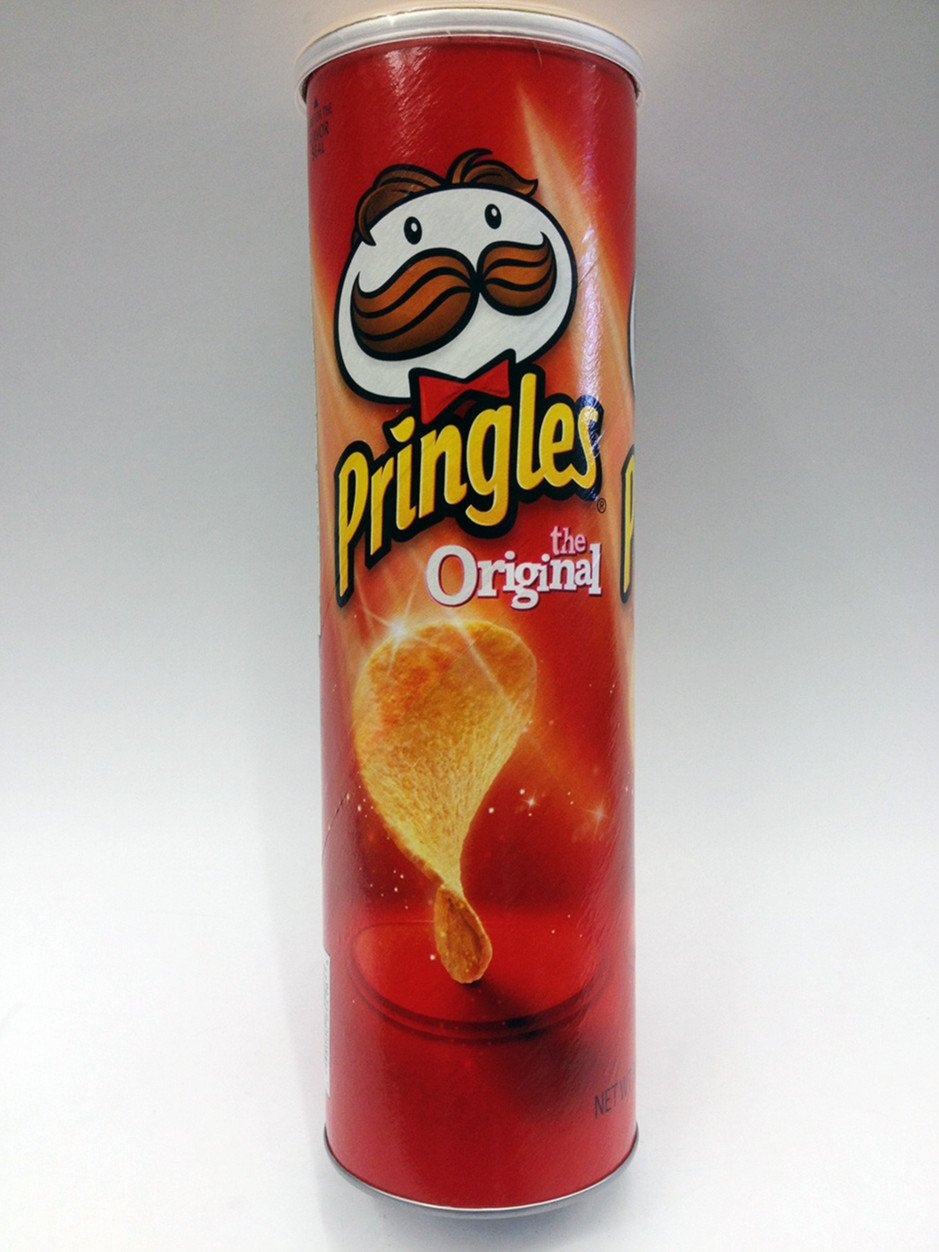pringle: (272, 6, 672, 1218)
